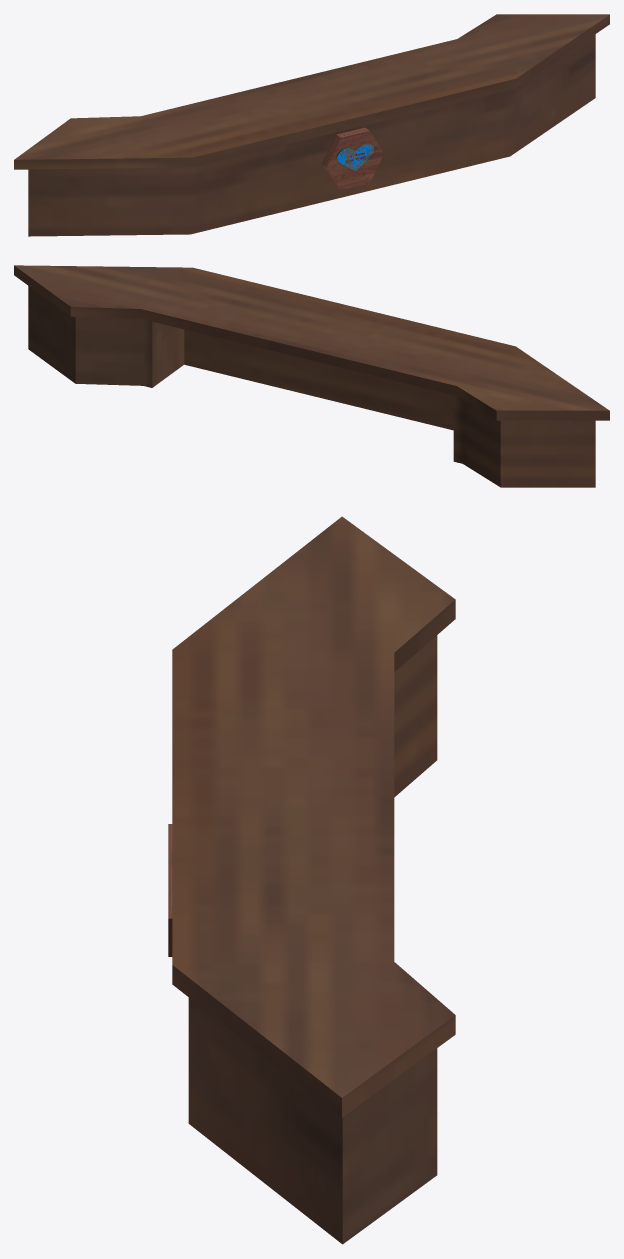
Rendered from front_desk.fbx.
The picture shows the model from 3 angles, top to bottom: view 1: azimuth 30°, elevation 25°; view 2: azimuth 150°, elevation 25°; view 3: azimuth 270°, elevation 25°; orthographic projection. The views are drawn at different scales.
Parts seen in each view (by area): view 1: front_desk1; view 2: front_desk1; view 3: front_desk1.
Part boxes in pixels (box(x1,y1,x2,y2)): front_desk1: box(14, 14, 609, 236); front_desk1: box(14, 265, 609, 487); front_desk1: box(168, 516, 455, 1244).
Size of the model in its own units: 51.29 by 6.6 by 10.7.
